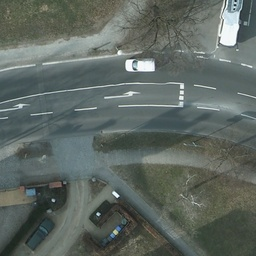car: (25, 217, 53, 249), (124, 56, 157, 74)
